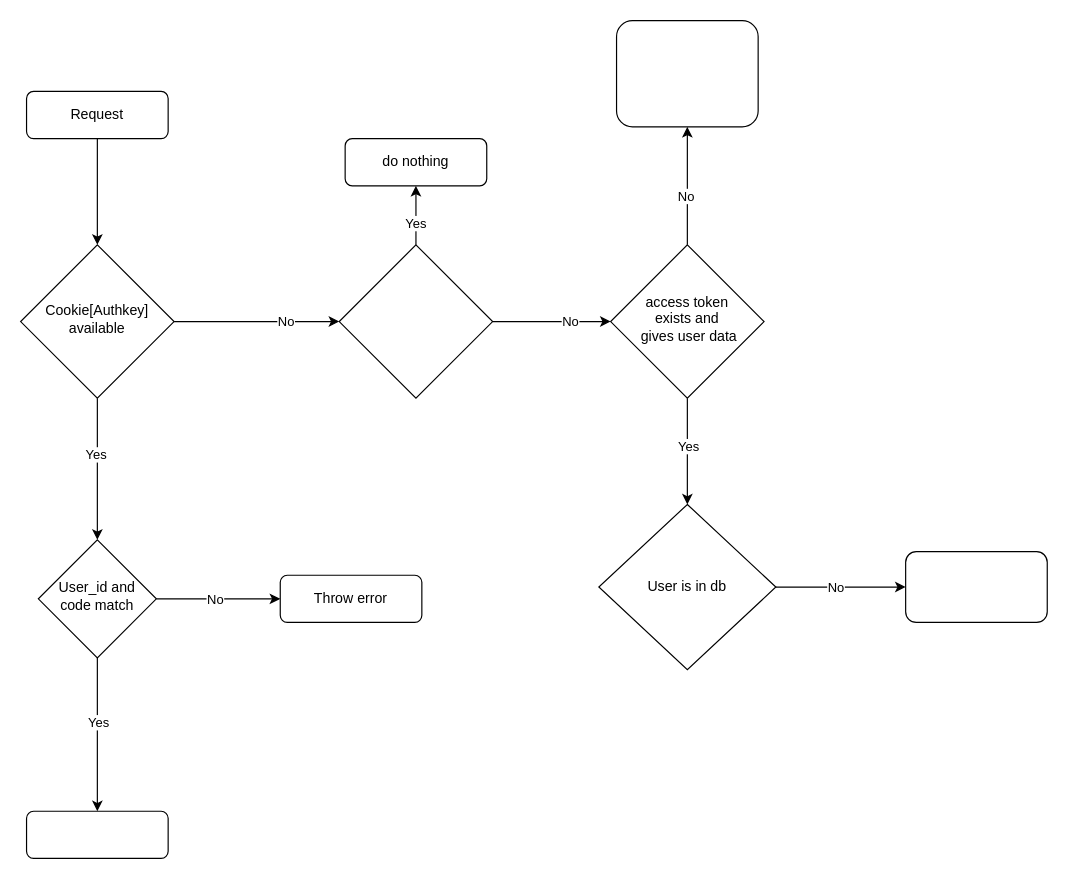
The diagram is 1068 pixels wide and 879 high, and some of its shapes have lost their labels. The shapes that lost their labels are listed below. From the top down, each one's box as (x1, y1, x2, y2) in pixels, then its label:
(615, 19, 758, 127): save request_url in session; forward to route "connect_via_azure"
(338, 244, 493, 398): Route is connect_azure_check
(904, 550, 1047, 622): save user data to session; redirect to register
